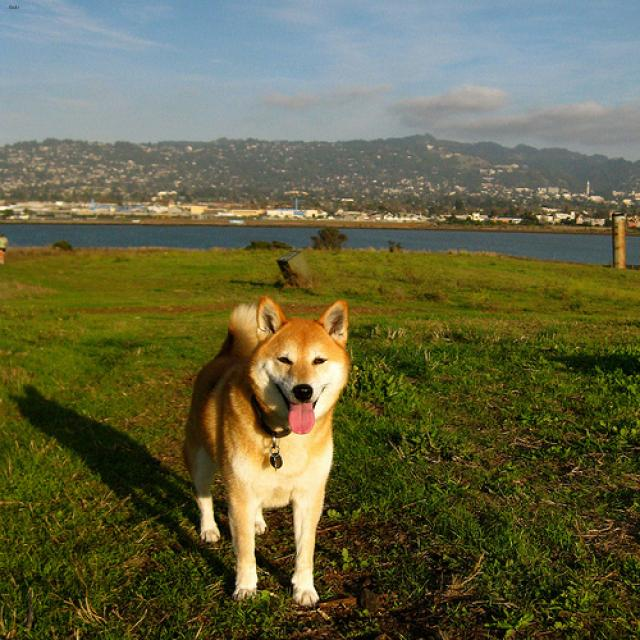dog-shiba_inu: (177, 289, 353, 609)
